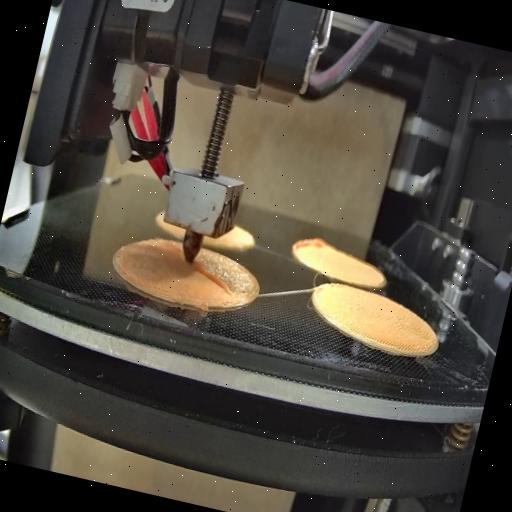over_extrusion: (284, 225, 330, 272), (188, 261, 240, 301)
